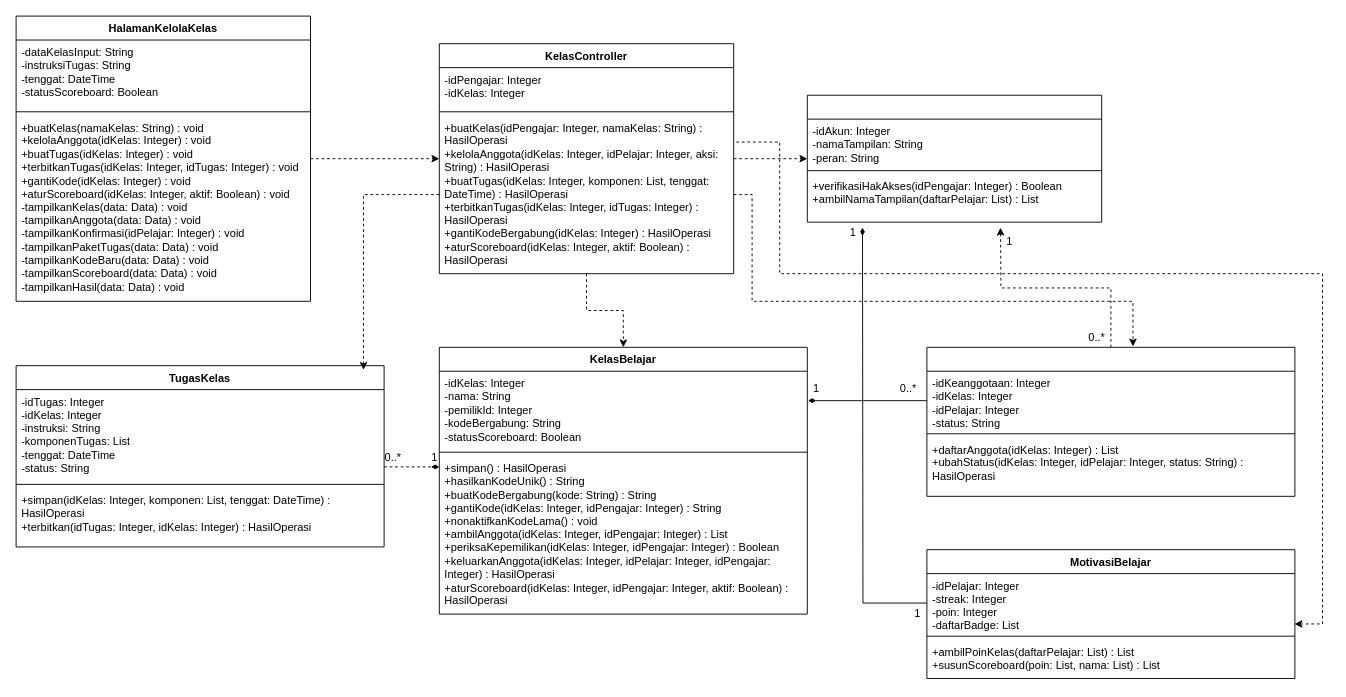
Some shapes in this 1346 by 697 pixel diagram are drawn without their labels. Here are the shapes that lost their labels. From the top down, the box of each, then its label:
(806, 94, 1102, 222): AkunPengguna
(926, 346, 1295, 496): KeanggotaanKelas
